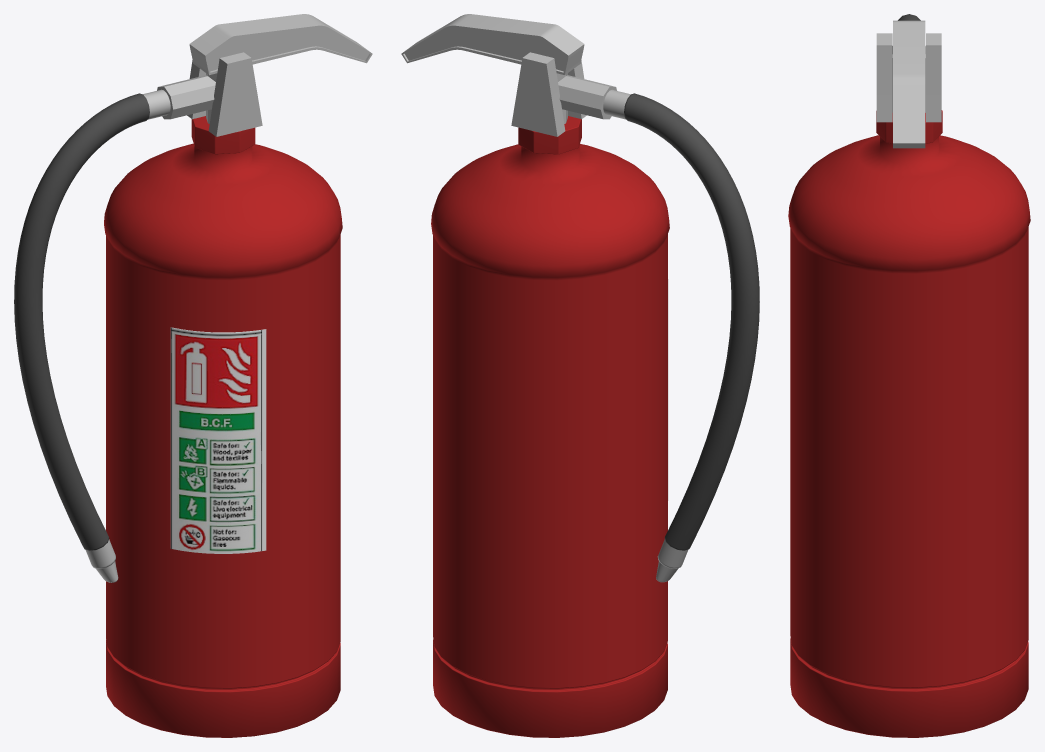
File: fire_extinguisher.glb
The picture shows the model from 3 angles, left to right: view 1: azimuth 30°, elevation 25°; view 2: azimuth 150°, elevation 25°; view 3: azimuth 270°, elevation 25°; orthographic projection.
Parts seen in each view (by area): view 1: fire extinguisher_00, fire extinguisher_09, fire extinguisher_01, fire extinguisher_06, fire extinguisher_07, fire extinguisher_04, fire extinguisher_08, fire extinguisher_02, fire extinguisher_03; view 2: fire extinguisher_00, fire extinguisher_01, fire extinguisher_06, fire extinguisher_05, fire extinguisher_04, fire extinguisher_08, fire extinguisher_02; view 3: fire extinguisher_00, fire extinguisher_06, fire extinguisher_07, fire extinguisher_05, fire extinguisher_08.
Part boxes in pixels (x1,y1,x2,y2): fire extinguisher_00: (104, 143, 342, 737); fire extinguisher_09: (170, 327, 266, 553); fire extinguisher_01: (14, 93, 149, 550); fire extinguisher_06: (189, 14, 372, 75); fire extinguisher_07: (208, 52, 262, 136); fire extinguisher_04: (157, 73, 217, 123); fire extinguisher_08: (191, 116, 255, 154); fire extinguisher_02: (85, 539, 118, 582); fire extinguisher_03: (143, 89, 170, 119); fire extinguisher_00: (431, 144, 669, 737); fire extinguisher_01: (624, 93, 759, 550); fire extinguisher_06: (401, 14, 584, 74); fire extinguisher_05: (511, 52, 565, 136); fire extinguisher_04: (556, 73, 616, 123); fire extinguisher_08: (518, 116, 581, 154); fire extinguisher_02: (656, 539, 687, 582); fire extinguisher_00: (788, 135, 1030, 737); fire extinguisher_06: (893, 20, 925, 148); fire extinguisher_07: (876, 33, 892, 122); fire extinguisher_05: (926, 33, 941, 122); fire extinguisher_08: (876, 110, 942, 143).
Size of the model in its own units: 0.3546 by 0.6396 by 0.2103.
4 materials, 1 textured.
